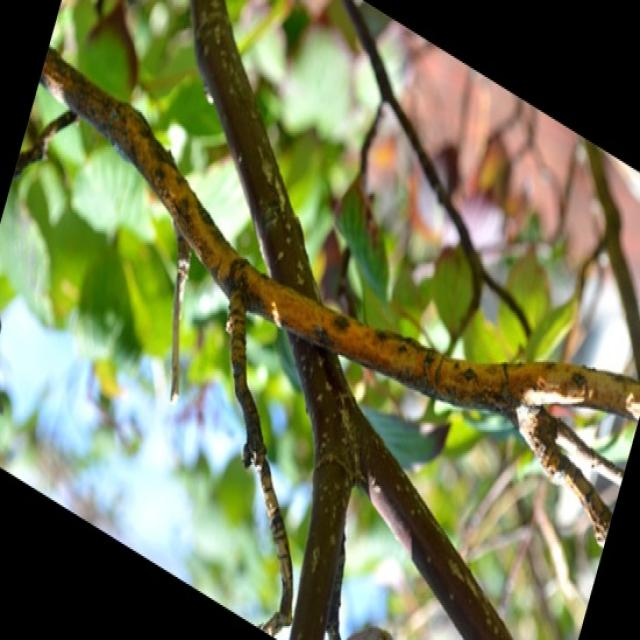Golden_canker: (28, 43, 640, 583)
